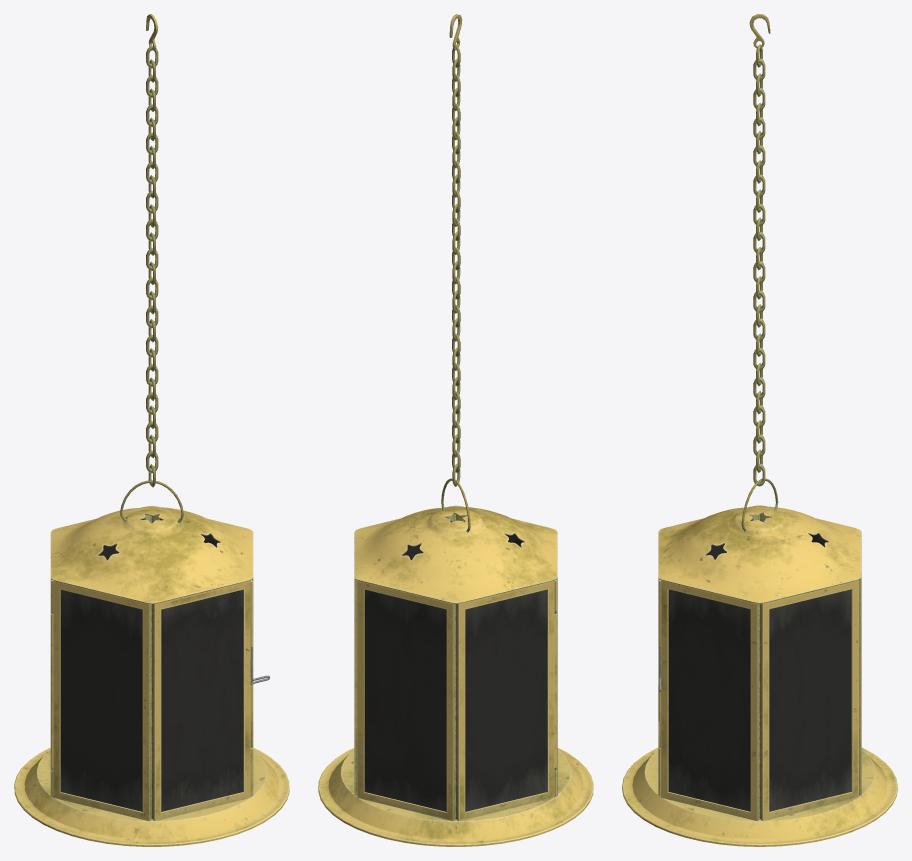
File: brass_diya_lantern.glb
3 views of the same model, side by side, from view 1: azimuth 30°, elevation 25°; view 2: azimuth 150°, elevation 25°; view 3: azimuth 270°, elevation 25° (orthographic).
Visible parts, largest first — view 1: brass_diya_lantern, brass_diya_lantern_connection; view 2: brass_diya_lantern, brass_diya_lantern_connection; view 3: brass_diya_lantern, brass_diya_lantern_connection.
Boxes of the visible parts, x1,y1,x2,y2 form: brass_diya_lantern: (14,505,289,846); brass_diya_lantern_connection: (120,14,183,522); brass_diya_lantern: (318,505,593,846); brass_diya_lantern_connection: (441,14,470,532); brass_diya_lantern: (622,505,897,846); brass_diya_lantern_connection: (741,14,778,531).
Size of the model in its own units: 0.123 by 0.3807 by 0.123.
Materials: 3 (3 with a texture image).
